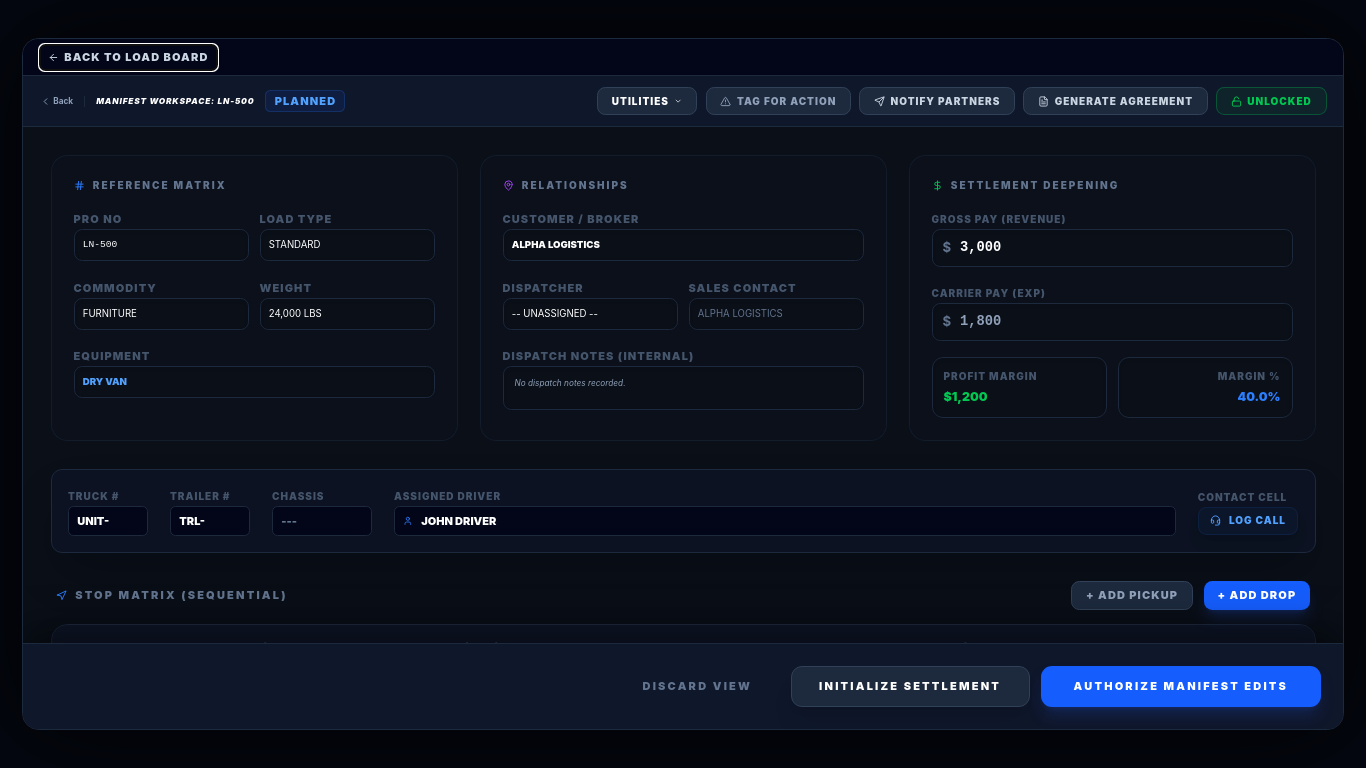
LoadDetailView S-5.1 button wiring › R-P5-06: Functional utility buttons › Carrier Rates toggles rate card section
Click the button "Utilities": point(647, 101) 597,87 -> 698,115
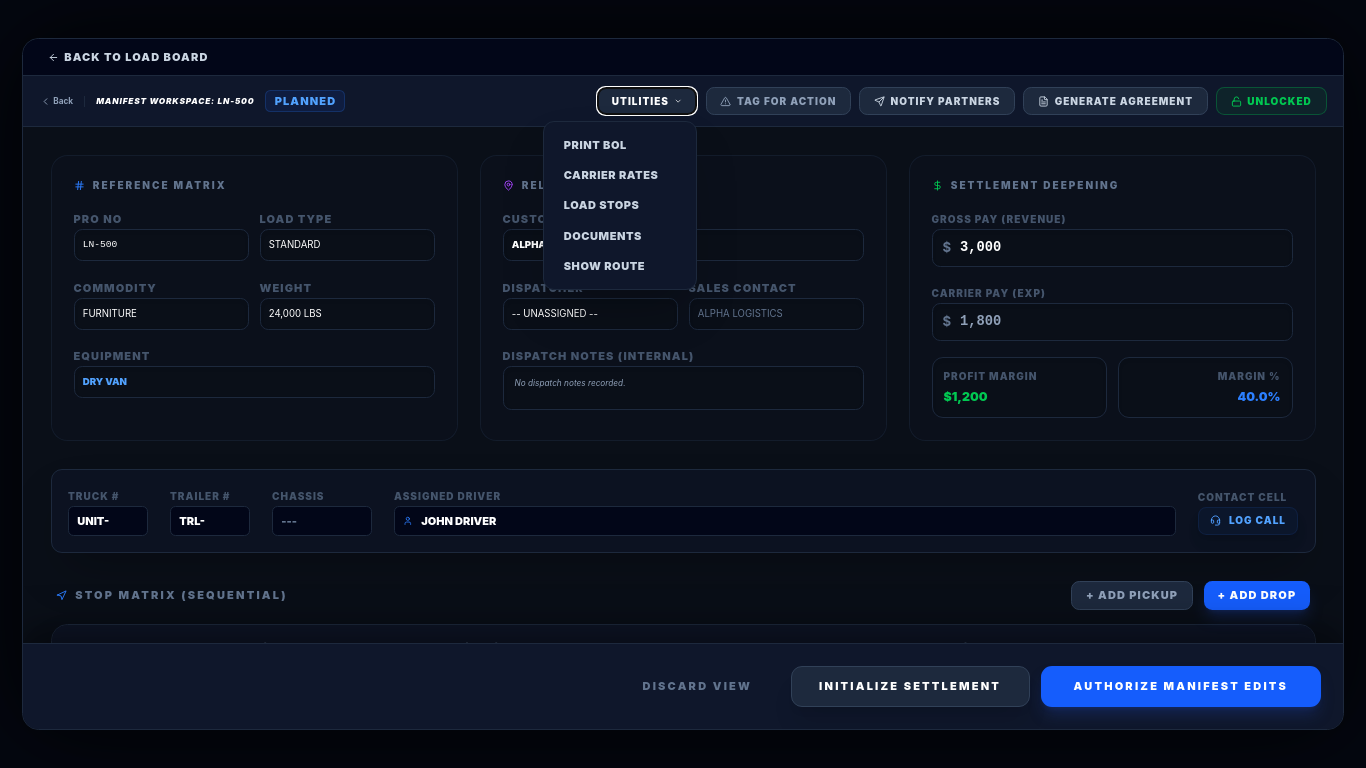
Click the button "Carrier Rates": point(620, 175) 553,160 -> 688,190
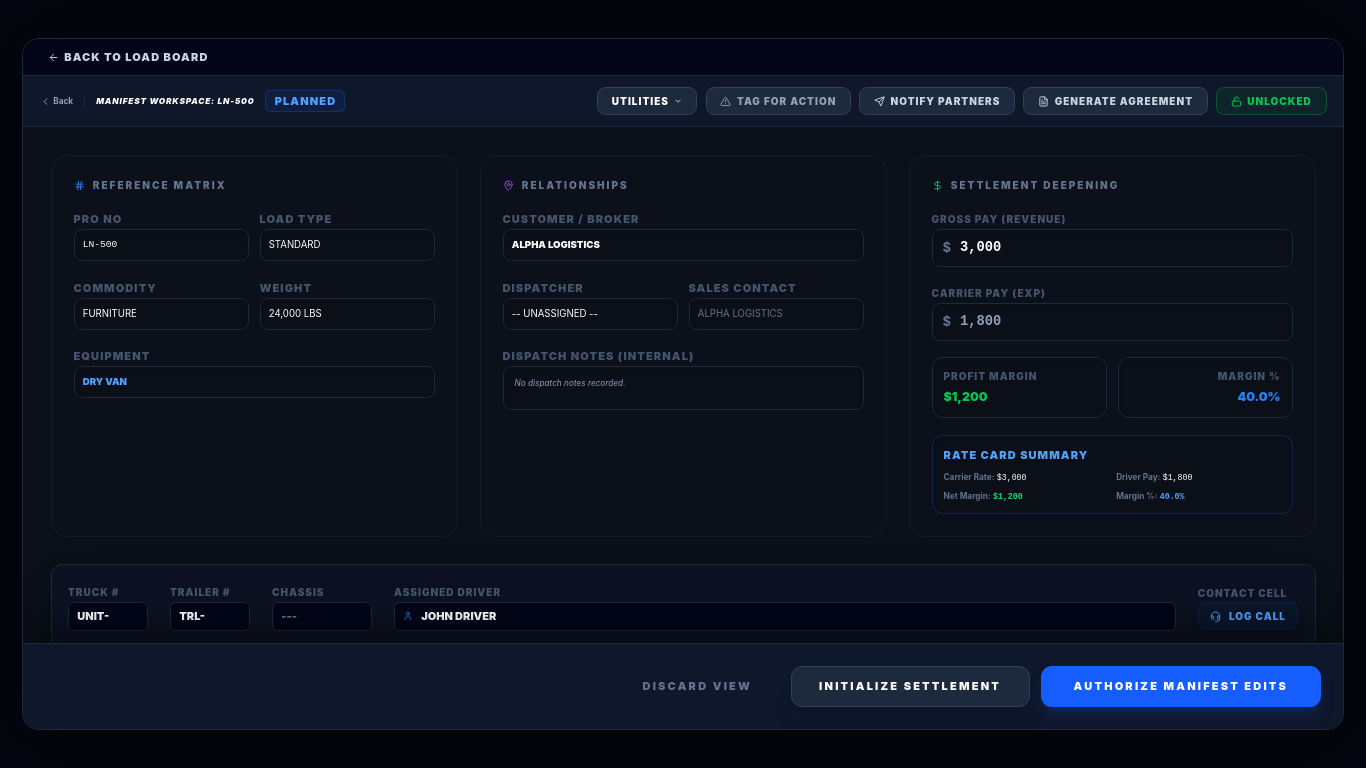
Check: the text "Rate Card Summary" is shown, box 944,448 -> 1088,462
